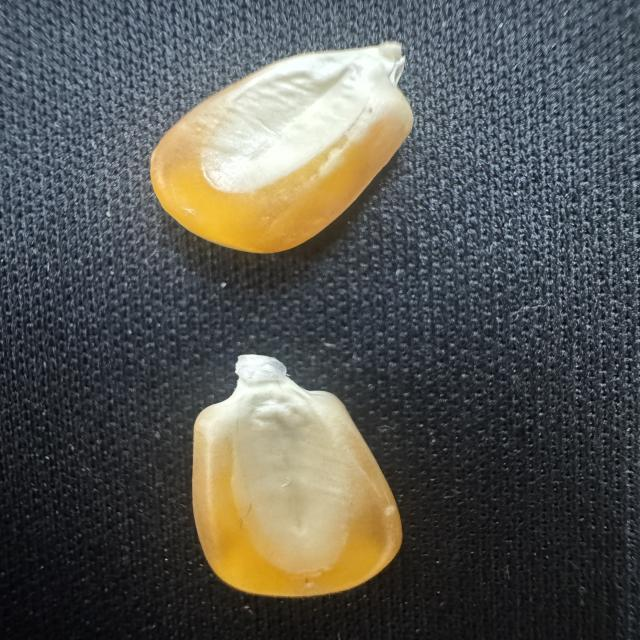Good-Seed: (138, 34, 441, 260), (182, 351, 416, 605)
